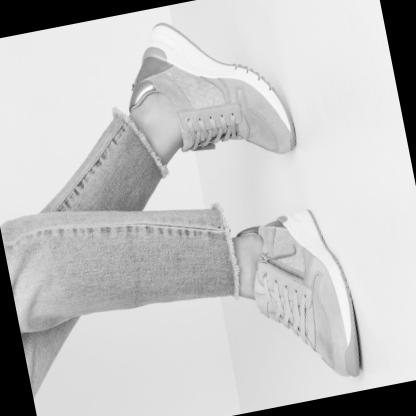ankle: (164, 88, 167, 92), (263, 237, 266, 241)
heel: (146, 57, 150, 61), (277, 221, 279, 223)
left_foot: (242, 203, 367, 392)
pinky: (335, 365, 338, 368), (275, 149, 277, 151)
right_foot: (114, 1, 299, 180)
toe: (279, 120, 283, 124), (338, 321, 341, 325)
